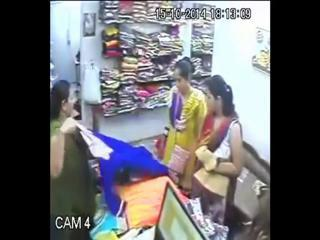Normal: (178, 76, 244, 204), (50, 80, 99, 239), (161, 58, 208, 168), (154, 181, 208, 240)
